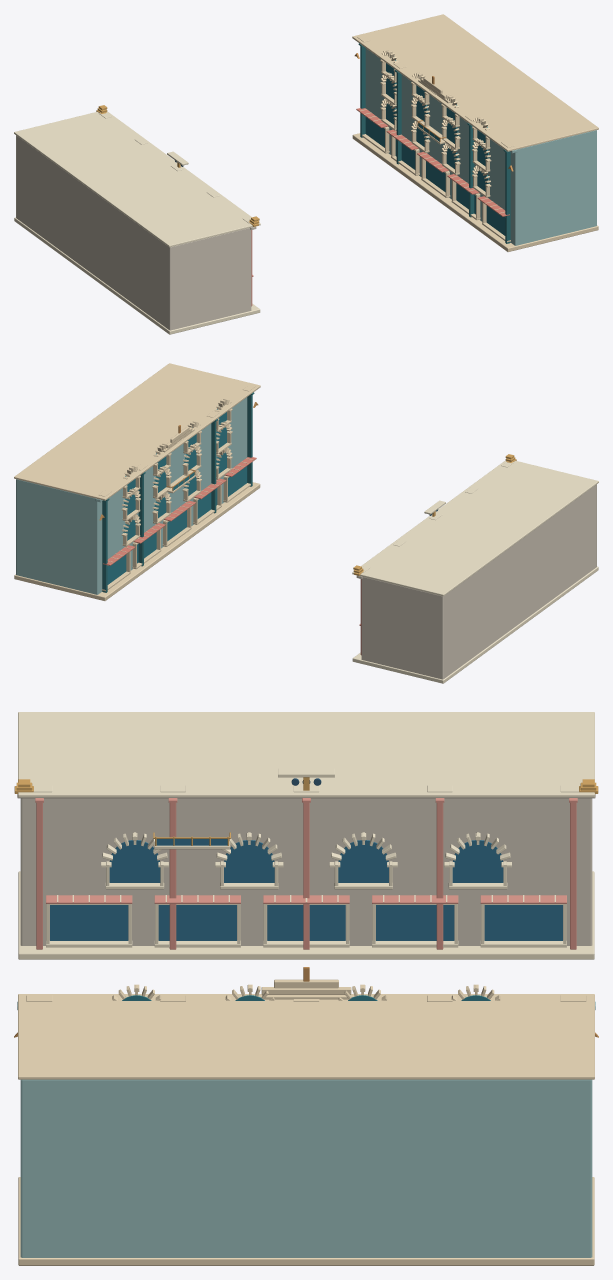
The model's file is street-architecture.glb.
3 views of the same model, one above another, from view 1: azimuth 30°, elevation 25°; view 2: azimuth 150°, elevation 25°; view 3: azimuth 270°, elevation 25° (orthographic). The views are drawn at different scales.
Visible parts, largest first — view 1: StreetArchitecture_West_Shell_Cream, StreetArchitecture_East_Sandstone_Concrete, StreetArchitecture_East_Shell_Ivory, StreetArchitecture_West_Seafoam_Stucco, StreetArchitecture_West_Sea_Glass, StreetArchitecture_West_Deep_Teal, StreetArchitecture_West_Coral_Awning; view 2: StreetArchitecture_West_Shell_Cream, StreetArchitecture_East_Sandstone_Concrete, StreetArchitecture_East_Shell_Ivory, StreetArchitecture_West_Seafoam_Stucco, StreetArchitecture_West_Sea_Glass, StreetArchitecture_West_Deep_Teal, StreetArchitecture_West_Coral_Awning; view 3: StreetArchitecture_West_Seafoam_Stucco, StreetArchitecture_East_Shell_Ivory, StreetArchitecture_West_Shell_Cream, StreetArchitecture_East_Sandstone_Concrete, StreetArchitecture_East_Cobalt_Glass, StreetArchitecture_East_Salmon_Awning, StreetArchitecture_East_Sunlit_Brass.
Part boxes in pixels (left/top/right/bottom): StreetArchitecture_West_Shell_Cream: left=352, top=14, right=598, bottom=251; StreetArchitecture_East_Sandstone_Concrete: left=16, top=135, right=256, bottom=330; StreetArchitecture_East_Shell_Ivory: left=14, top=111, right=260, bottom=334; StreetArchitecture_West_Seafoam_Stucco: left=365, top=48, right=596, bottom=245; StreetArchitecture_West_Sea_Glass: left=365, top=60, right=505, bottom=235; StreetArchitecture_West_Deep_Teal: left=358, top=43, right=510, bottom=243; StreetArchitecture_West_Coral_Awning: left=356, top=108, right=509, bottom=216; StreetArchitecture_West_Shell_Cream: left=14, top=363, right=260, bottom=600; StreetArchitecture_East_Sandstone_Concrete: left=356, top=484, right=596, bottom=679; StreetArchitecture_East_Shell_Ivory: left=352, top=460, right=598, bottom=683; StreetArchitecture_West_Seafoam_Stucco: left=16, top=397, right=247, bottom=594; StreetArchitecture_West_Sea_Glass: left=107, top=409, right=247, bottom=584; StreetArchitecture_West_Deep_Teal: left=102, top=392, right=254, bottom=592; StreetArchitecture_West_Coral_Awning: left=103, top=457, right=256, bottom=565; StreetArchitecture_West_Seafoam_Stucco: left=17, top=1001, right=595, bottom=1257; StreetArchitecture_East_Shell_Ivory: left=18, top=712, right=594, bottom=959; StreetArchitecture_West_Shell_Cream: left=18, top=979, right=594, bottom=1265; StreetArchitecture_East_Sandstone_Concrete: left=17, top=794, right=595, bottom=945; StreetArchitecture_East_Cobalt_Glass: left=50, top=839, right=562, bottom=940; StreetArchitecture_East_Salmon_Awning: left=35, top=798, right=577, bottom=949; StreetArchitecture_East_Sunlit_Brass: left=14, top=777, right=598, bottom=845.
Size of the model in its own units: 48.28 by 12.7 by 30.69.
